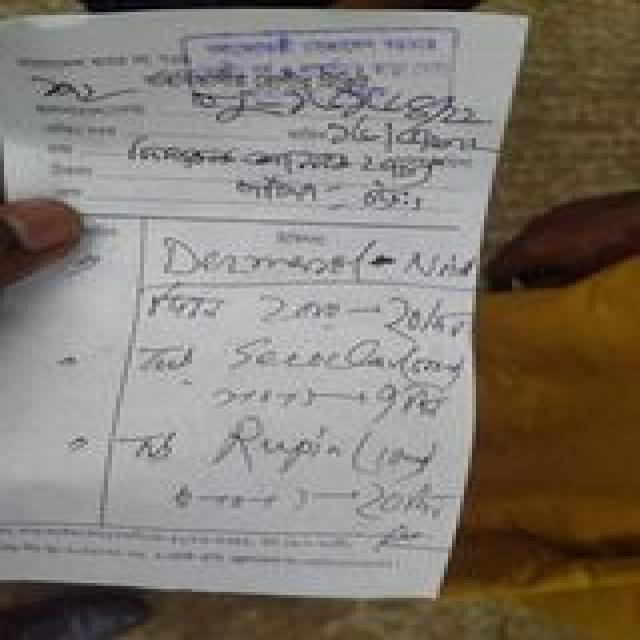Rupin: (208, 413, 350, 479)
Secular: (219, 327, 418, 388)
